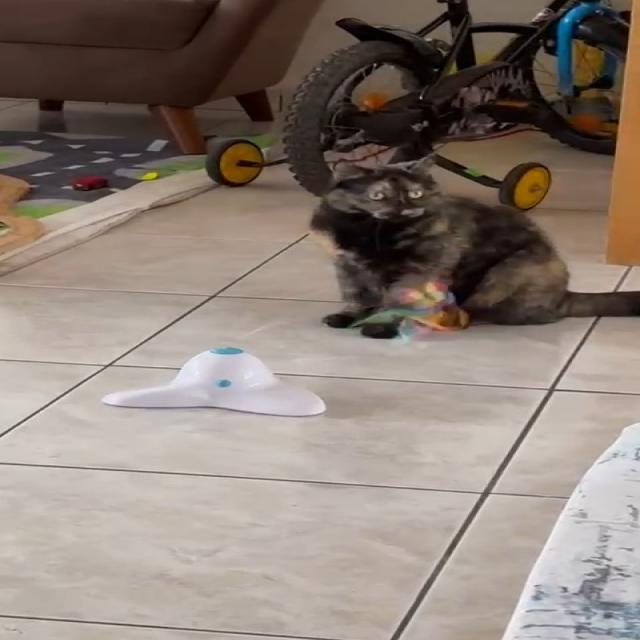authorized: (306, 160, 638, 334)
